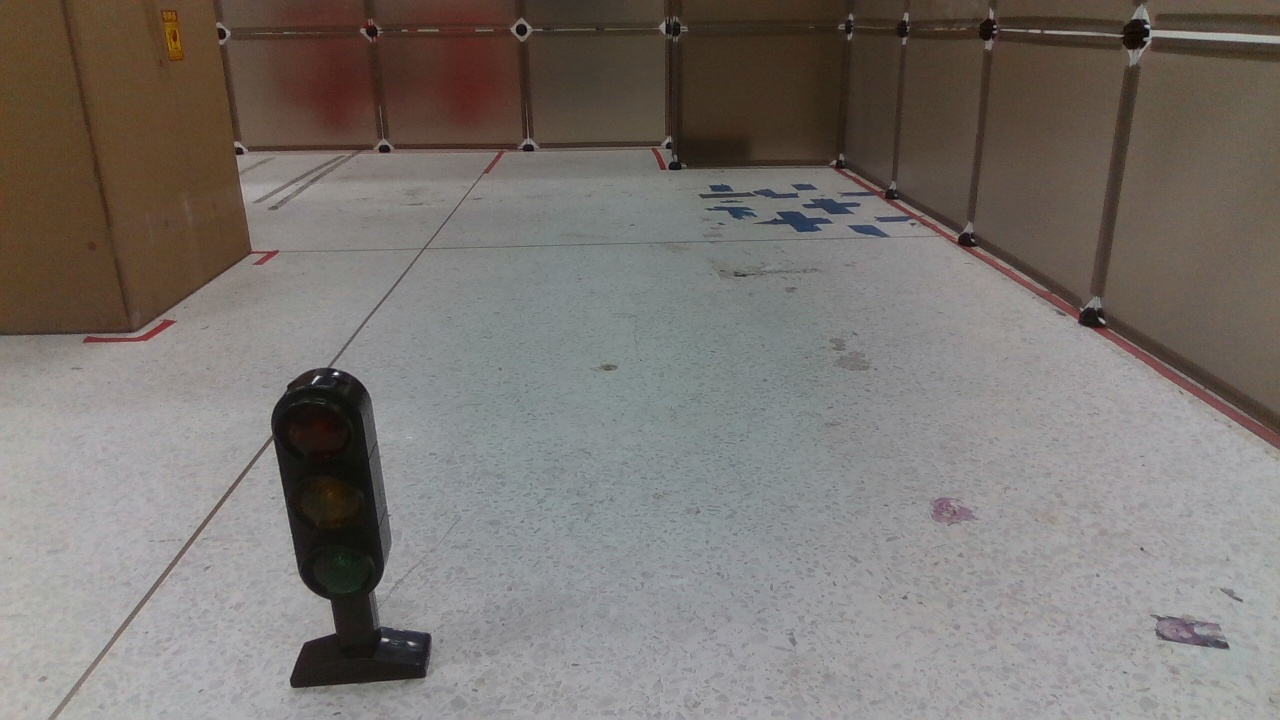Dim traffic light: (241, 363, 442, 693)
